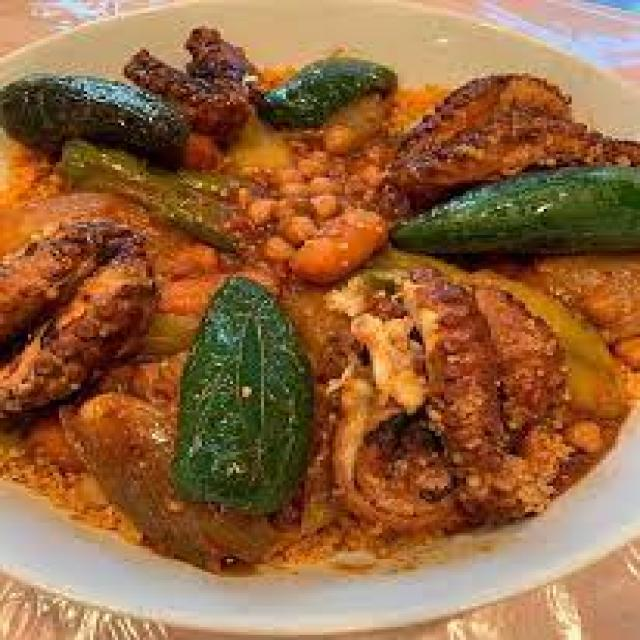Couscous: (12, 29, 633, 562)
